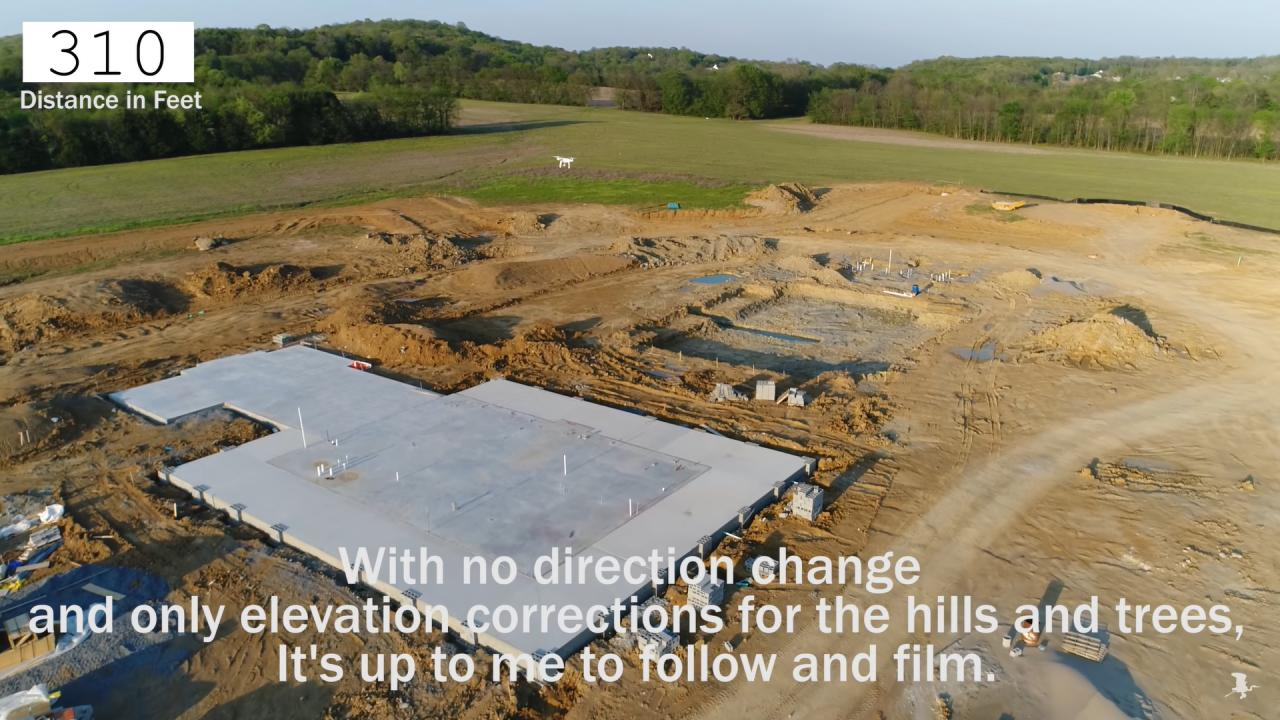Drone: (547, 148, 583, 176)
